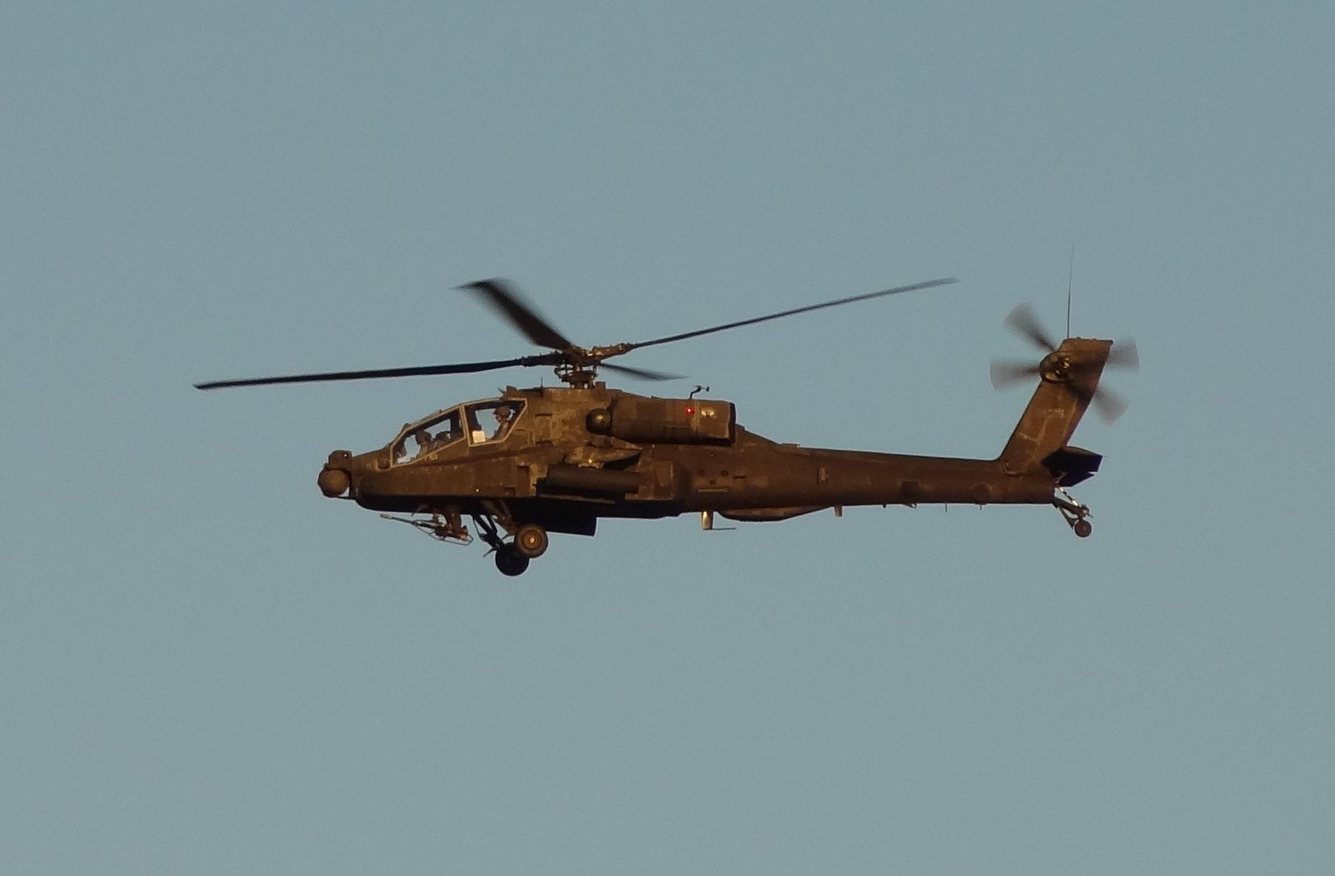aircraft: (227, 277, 1141, 577)
